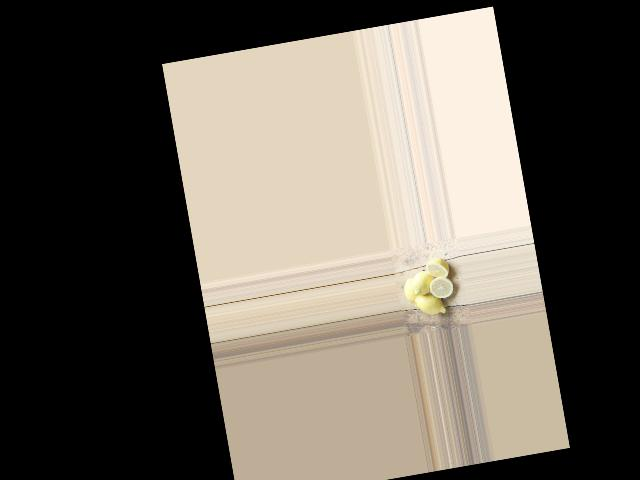lemon: (412, 290, 448, 321)
